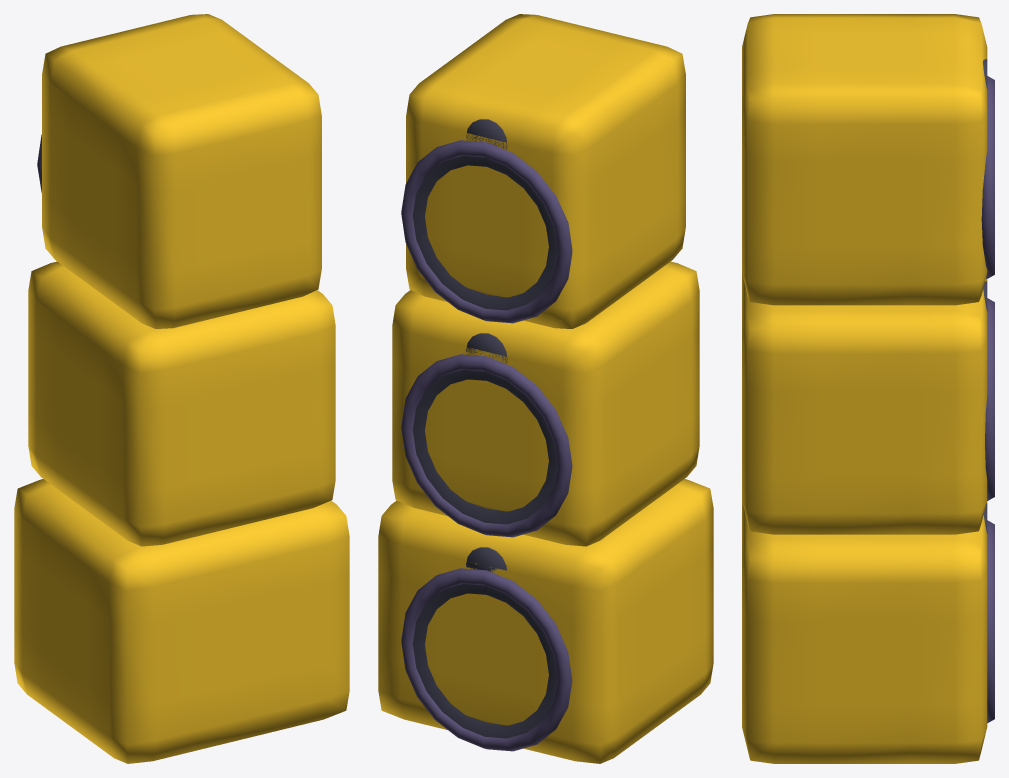
File: LastDancerSpeaker.obj
3 renders of one model, left to right at view 1: azimuth 30°, elevation 25°; view 2: azimuth 150°, elevation 25°; view 3: azimuth 270°, elevation 25°, orthographic. The views are drawn at different scales.
Parts seen in each view (by area): view 1: Body; view 2: Body, Rim, Cone; view 3: Body, Rim.
Part boxes in pixels (bbox=[...]): Body: bbox=[14, 14, 349, 763]; Body: bbox=[378, 14, 713, 763]; Rim: bbox=[401, 140, 572, 751]; Cone: bbox=[412, 119, 557, 738]; Body: bbox=[742, 14, 987, 763]; Rim: bbox=[981, 76, 994, 723].
Size of the model in its own units: 5 by 13.14 by 4.54.
